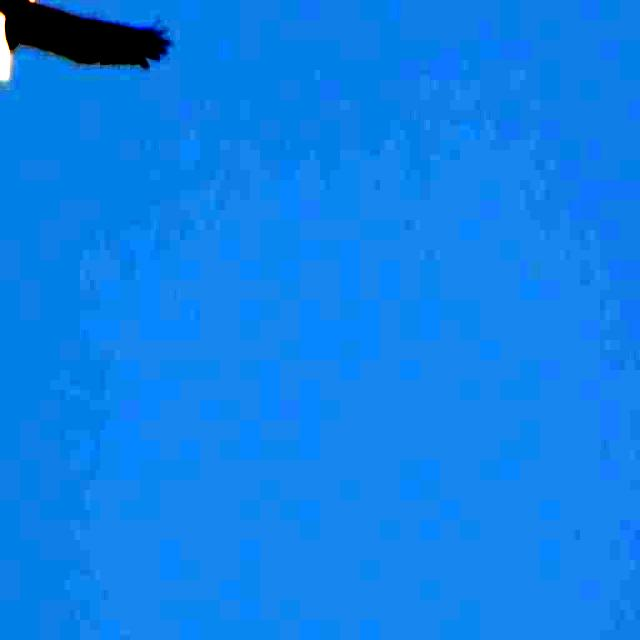airplane: (0, 0, 175, 108)
